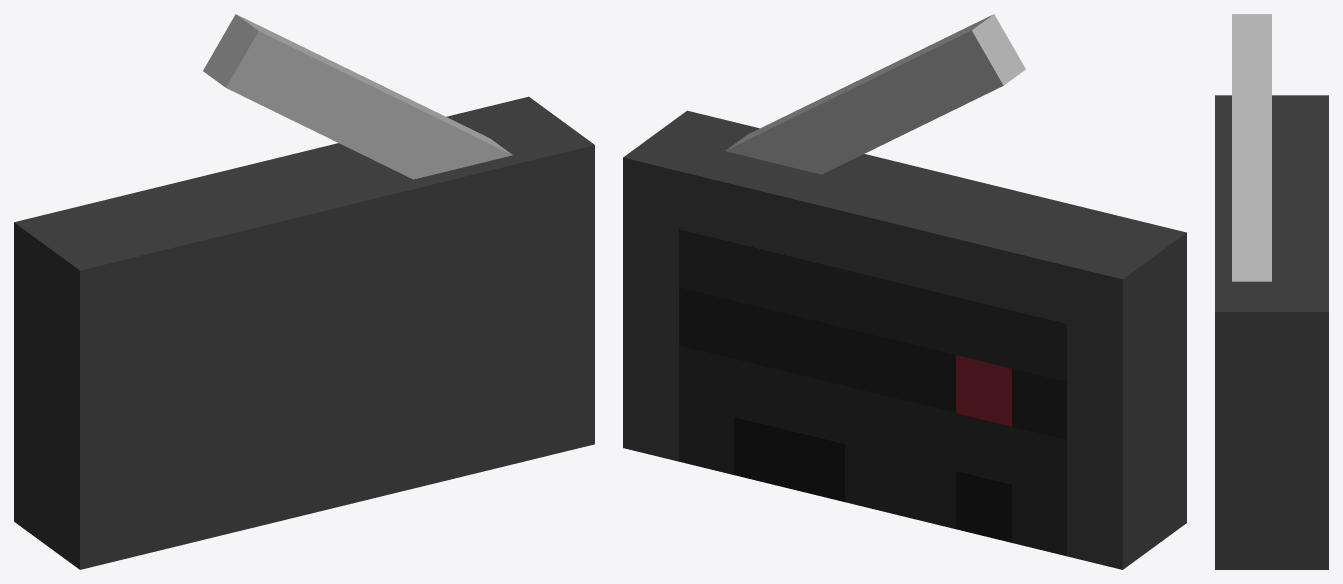
The model's file is Radio.fbx.
3 renders of one model, left to right at view 1: azimuth 30°, elevation 25°; view 2: azimuth 150°, elevation 25°; view 3: azimuth 270°, elevation 25°, orthographic. The views are drawn at different scales.
Visible parts, largest first — view 1: cube, cube_1; view 2: cube, cube_1; view 3: cube, cube_1.
Boxes of the visible parts, bbox=[...] form: cube: bbox=[14, 96, 594, 569]; cube_1: bbox=[203, 14, 512, 179]; cube: bbox=[623, 110, 1186, 569]; cube_1: bbox=[725, 14, 1025, 174]; cube: bbox=[1215, 95, 1328, 569]; cube_1: bbox=[1232, 14, 1271, 281].
Bounding box in the file's own units: 56.25 × 50.71 × 12.5.
Materials: 1 (1 with a texture image).
